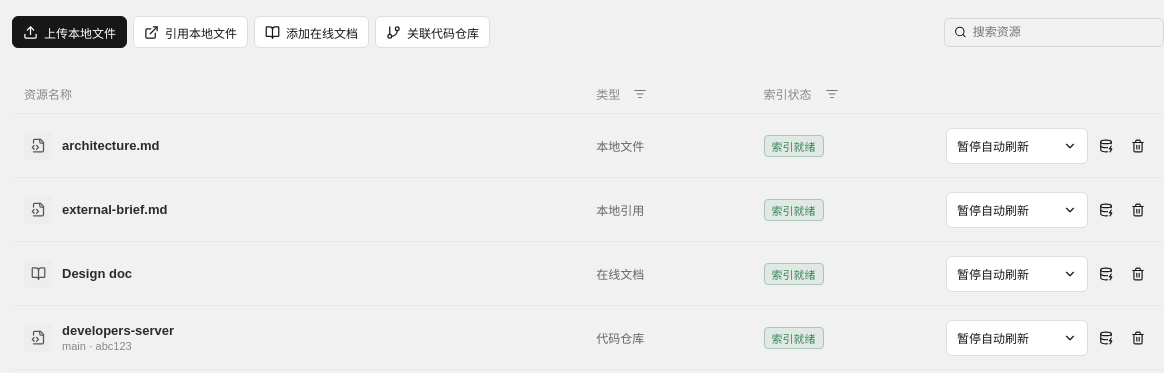
Test: SpaceKnowledgePanel › matches resource search against display type labels
The width and height of the screenshot is (1164, 373).
In the search field named "搜索空间资源": (1063, 32) [973,25,1154,39], type "本地引用"
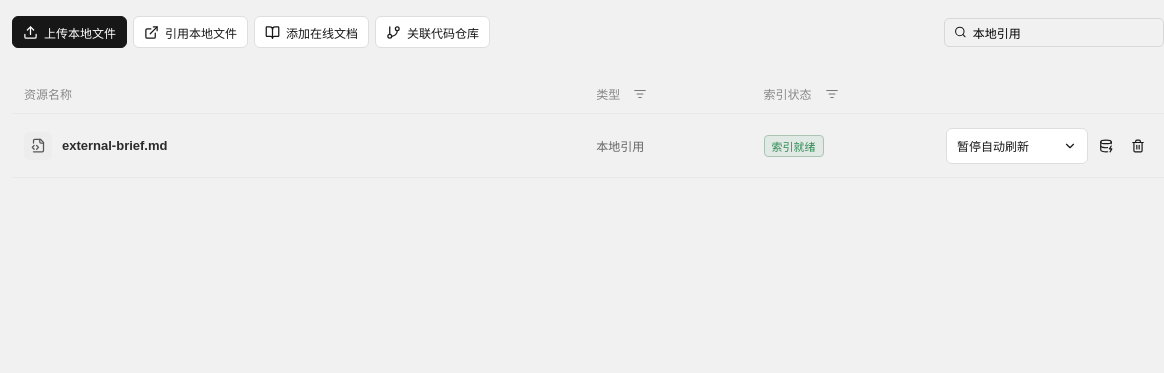
Check: the button "architecture.md" is gone
Check: the button "Design doc" is gone
Check: the button "developers-server" is gone
